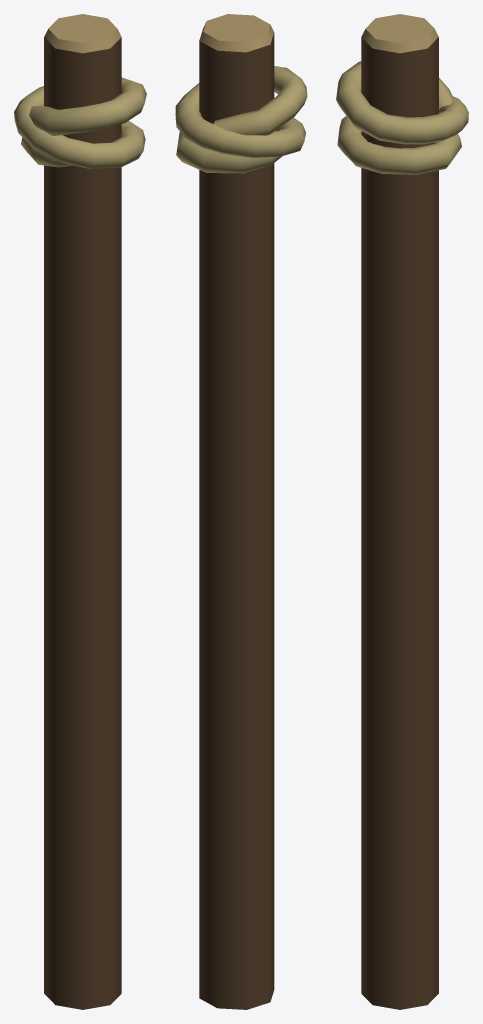
File: Post.glb
3 views of the same model, side by side, from view 1: azimuth 90°, elevation 25°; view 2: azimuth 150°, elevation 25°; view 3: azimuth 270°, elevation 25° (orthographic).
Parts seen in each view (by area): view 1: Environment_Dock_Pole; view 2: Environment_Dock_Pole; view 3: Environment_Dock_Pole.
Boxes of the visible parts, x1,y1,x2,y2 form: Environment_Dock_Pole: (14,14,146,1009); Environment_Dock_Pole: (175,14,307,1009); Environment_Dock_Pole: (336,14,468,1009).
Size of the model in its own units: 0.3665 by 3.01 by 0.376.
1 material, 1 textured.
